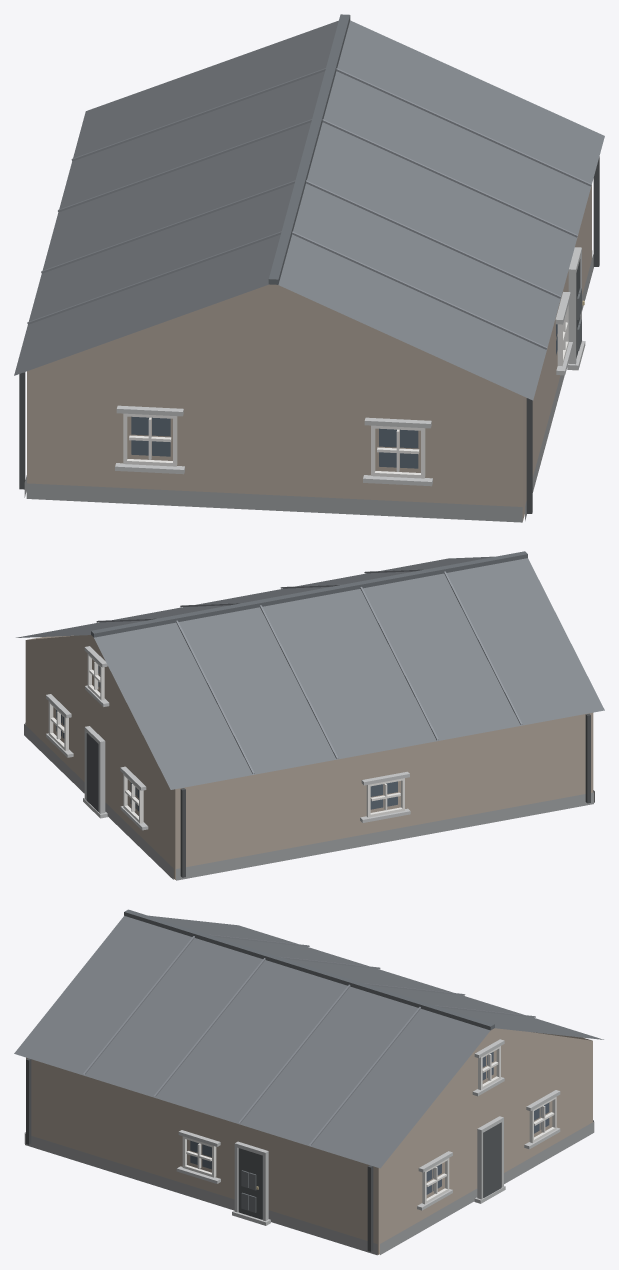
3 renders of one model, top to bottom at view 1: azimuth 30°, elevation 25°; view 2: azimuth 150°, elevation 25°; view 3: azimuth 270°, elevation 25°, orthographic. The views are drawn at different scales.
Visible parts, largest first — view 1: slate, harl_brown, plinth, slate_lt, stone_band, slate_dk, frame, pipe; view 2: slate, harl_brown, plinth, slate_dk, stone_band, slate_lt, frame, pipe, door_dark; view 3: slate, harl_brown, plinth, stone_band, slate_dk, slate_lt, frame, door_dark, pipe, door_dark_p.
Boxes of the visible parts, x1,y1,x2,y2 form: slate: (14,20,604,400); harl_brown: (27,185,591,521); plinth: (24,250,593,522); slate_lt: (27,68,591,349); stone_band: (115,247,585,486); slate_dk: (268,14,350,284); frame: (123,305,568,478); pipe: (19,156,599,513); slate: (16,556,604,789); harl_brown: (25,635,593,879); plinth: (24,722,594,880); slate_dk: (91,551,527,637); stone_band: (46,646,410,830); slate_lt: (96,569,522,774); frame: (48,654,404,823); pipe: (180,713,590,877); door_dark: (86,732,98,811); slate: (14,915,603,1168); harl_brown: (26,1028,592,1254); plinth: (24,1120,594,1255); stone_band: (176,1039,560,1225); slate_dk: (124,909,494,1030); slate_lt: (83,934,535,1145); frame: (182,1046,556,1204); door_dark: (238,1123,501,1219); pipe: (26,1058,373,1251); door_dark_p: (241,1170,256,1212).
Bounding box in the file's own units: 16.26 × 5.34 × 16.69.
